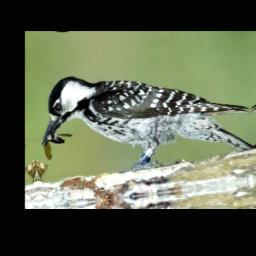Woodpecker: (34, 54, 255, 184)
